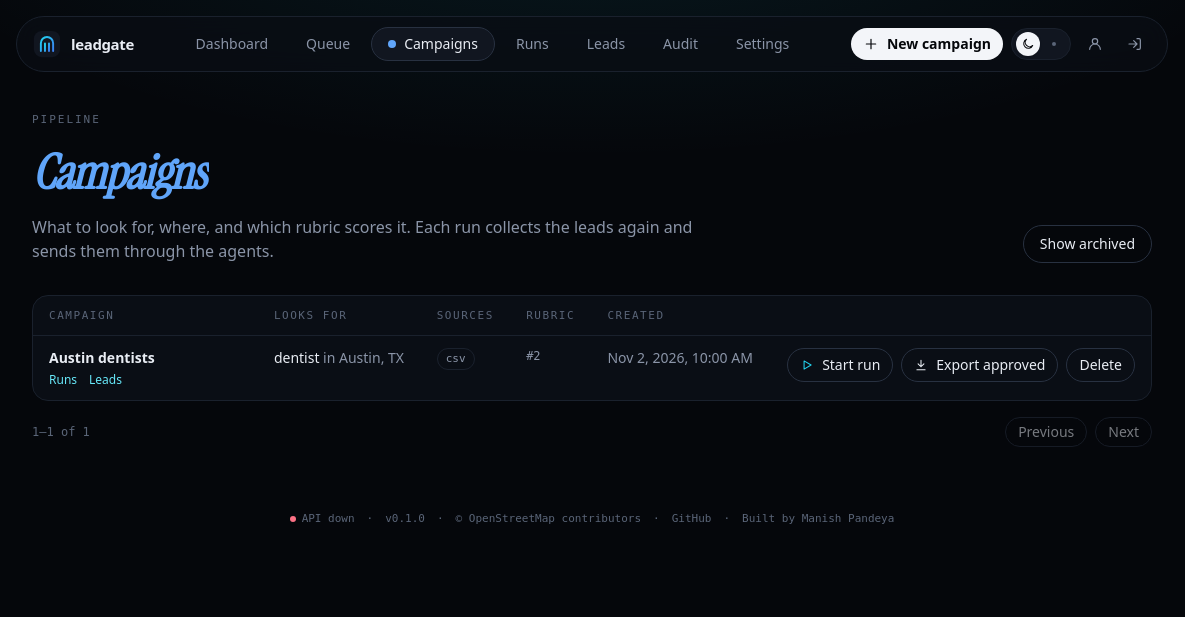
CampaignsPage › asks before deleting a campaign, and shows the API's refusal
Click the button "Delete" at (1101, 365), box [1066,348,1135,382]
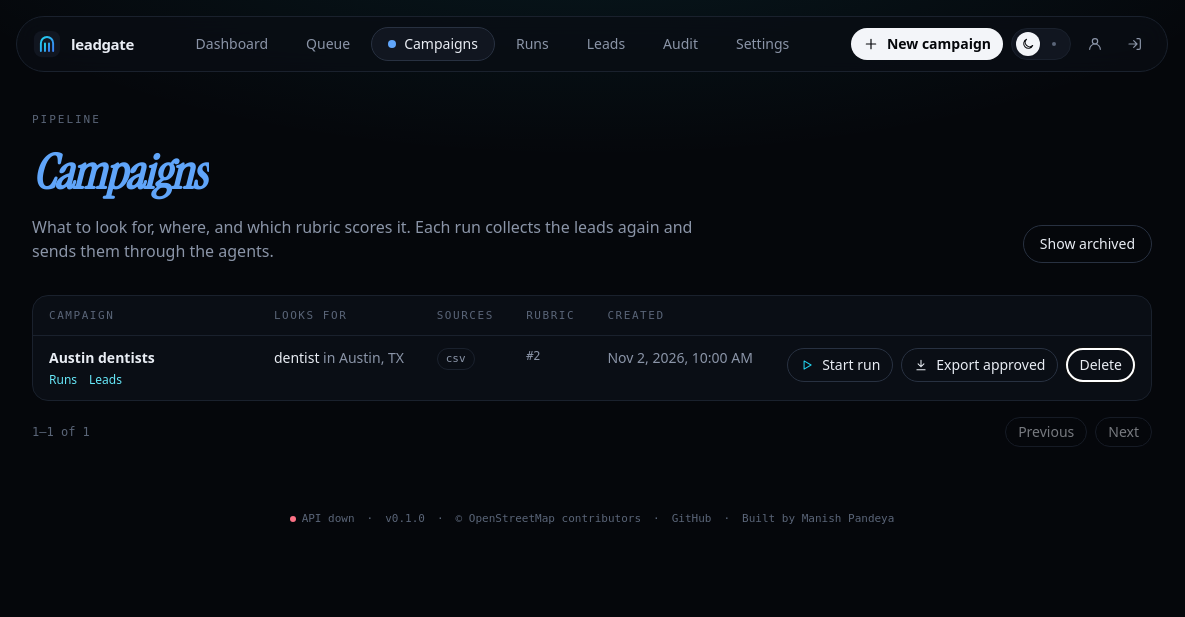
Click the button "Delete" at (1101, 365), box [1066,348,1135,382]
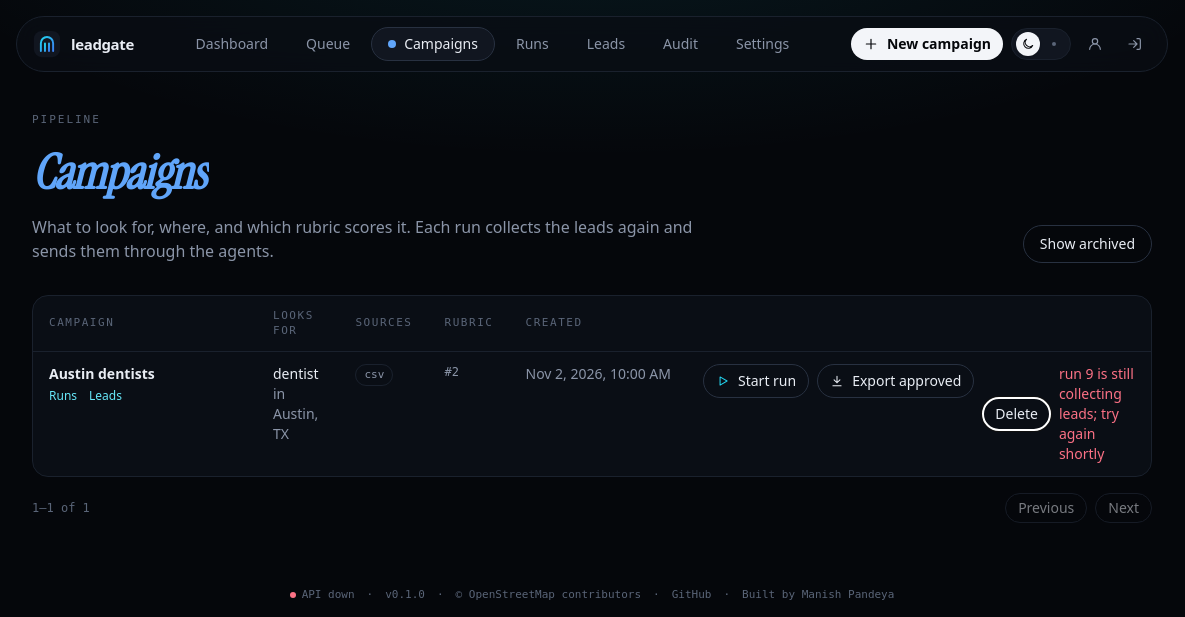
Expected: the message shows "run 9 is still collecting leads", [1059,364,1134,463]
